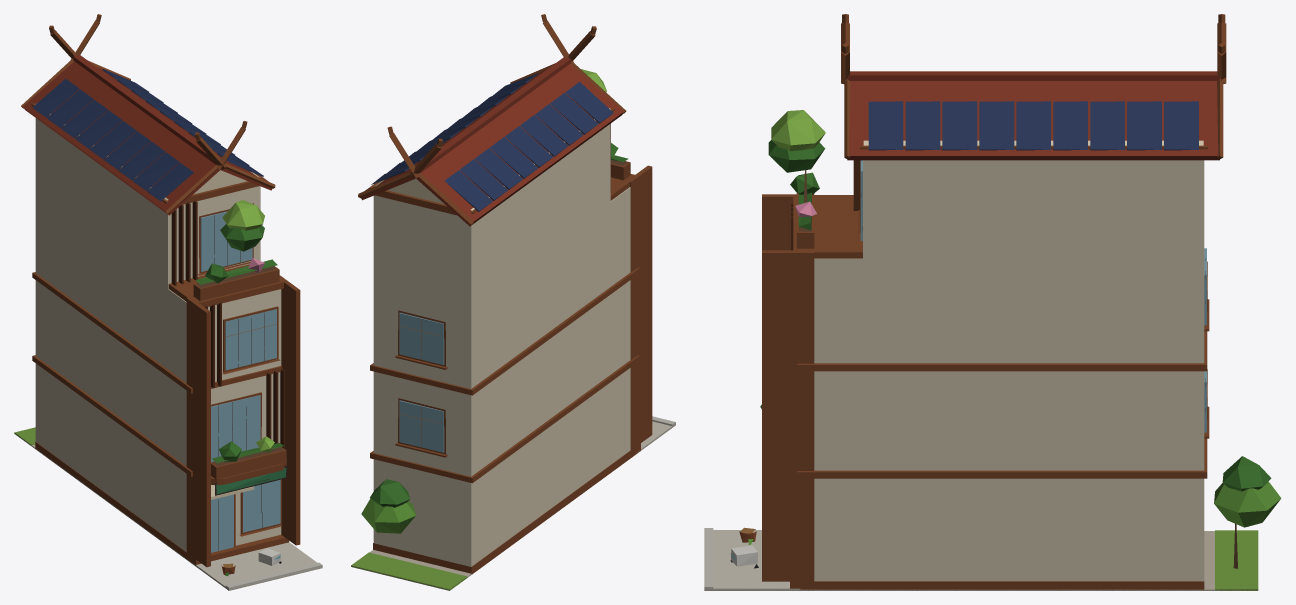
Rendered from bay2_mid2.glb.
3 views of the same model, side by side, from view 1: azimuth 30°, elevation 25°; view 2: azimuth 150°, elevation 25°; view 3: azimuth 270°, elevation 25° (orthographic). The views are drawn at different scales.
Parts seen in each view (by area): view 1: body; view 2: body; view 3: body.
Boxes of the visible parts, <box> form: body: <box>14,14,322,590</box>; body: <box>351,14,675,590</box>; body: <box>704,14,1281,590</box>.
Bounding box in the file's own units: 4.7 × 17.24 × 16.56.
